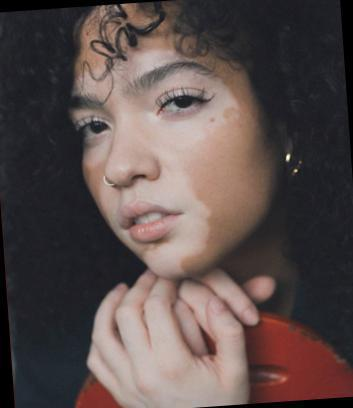Sober: (78, 32, 263, 257)
